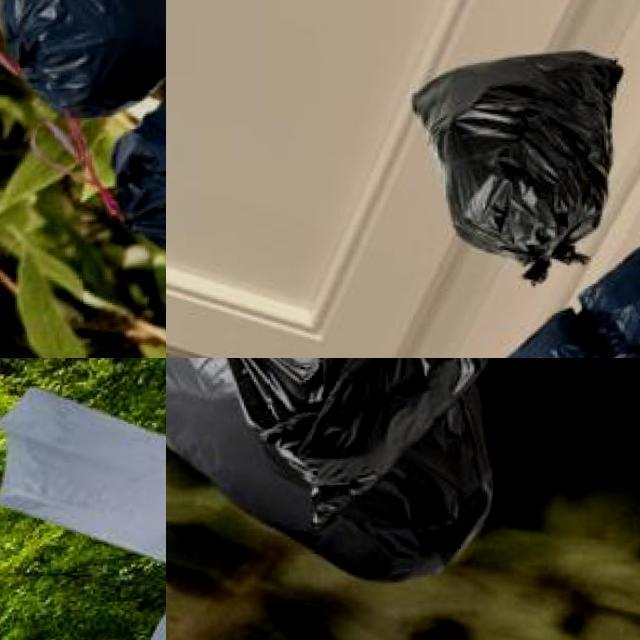waste: (166, 358, 500, 589), (166, 358, 504, 537), (424, 40, 618, 267), (1, 384, 166, 576), (0, 0, 166, 109), (579, 243, 640, 358), (508, 304, 619, 358)
